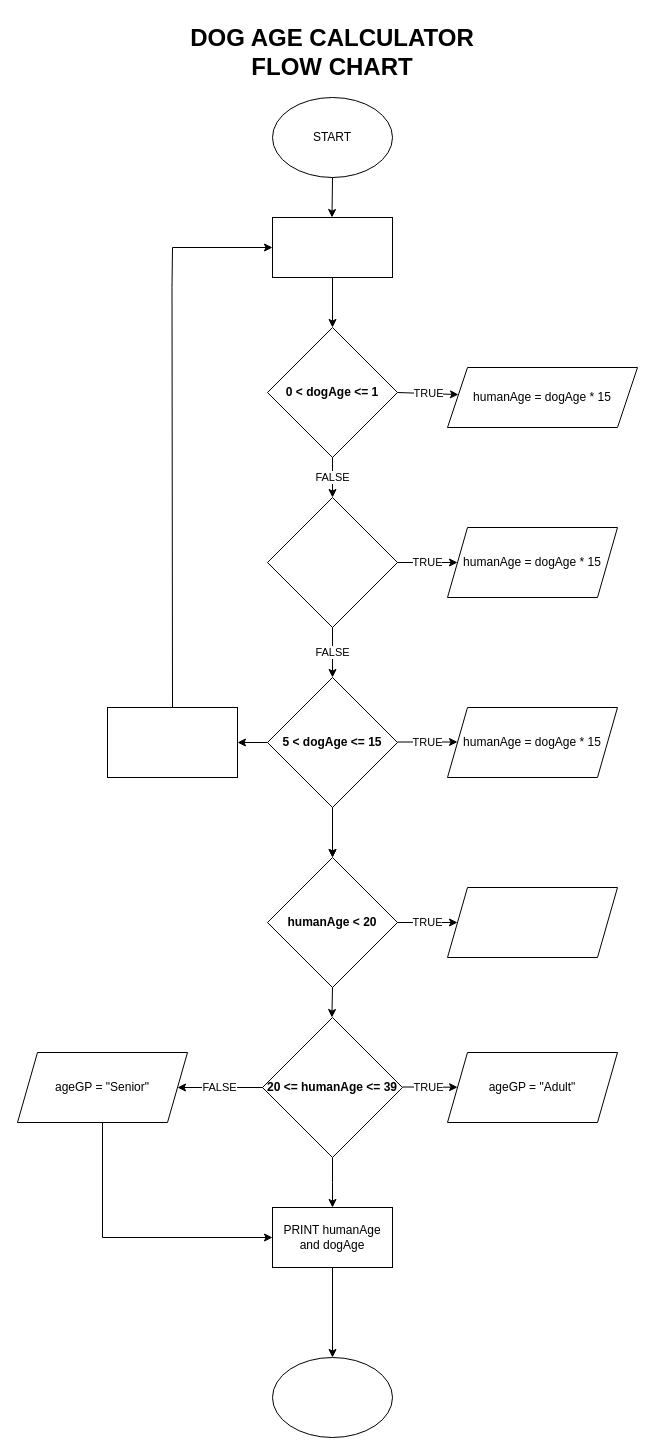
Image size: 655x1455. Some labels were removed from this diagram. Each missing label, with the centre of its shape:
1 < dogAge <= 5: (x=332, y=562)
ageGP = "Young": (x=532, y=922)
END: (x=332, y=1397)
INPUT dogAge: (x=332, y=247)
PRINT ("THE CALCULATOR ONLY SUPPORTS AGES (0–15"): (x=172, y=742)
